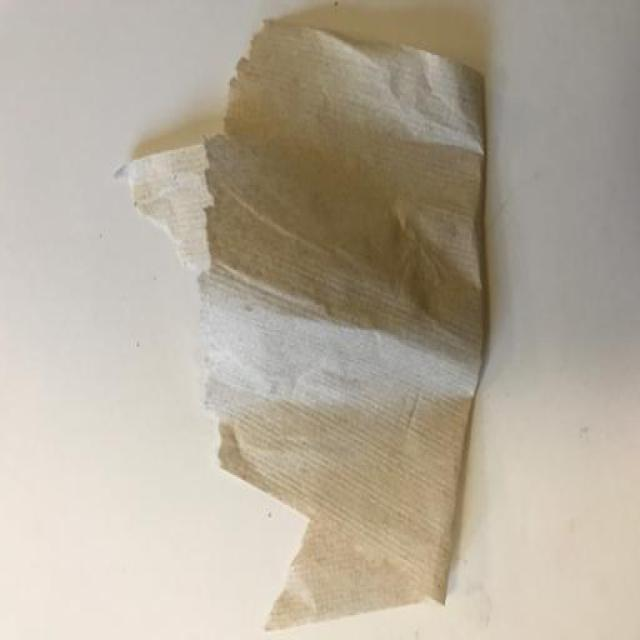Random Trash: (124, 18, 490, 630)
